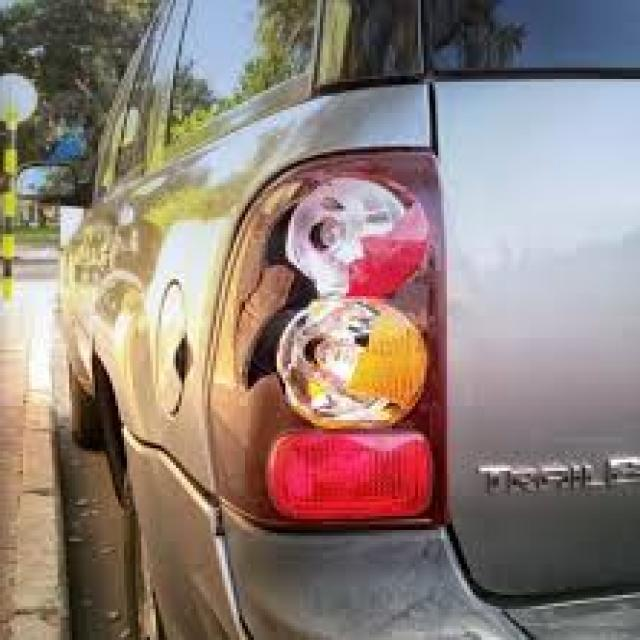damaged-tail-light: (201, 141, 457, 540)
